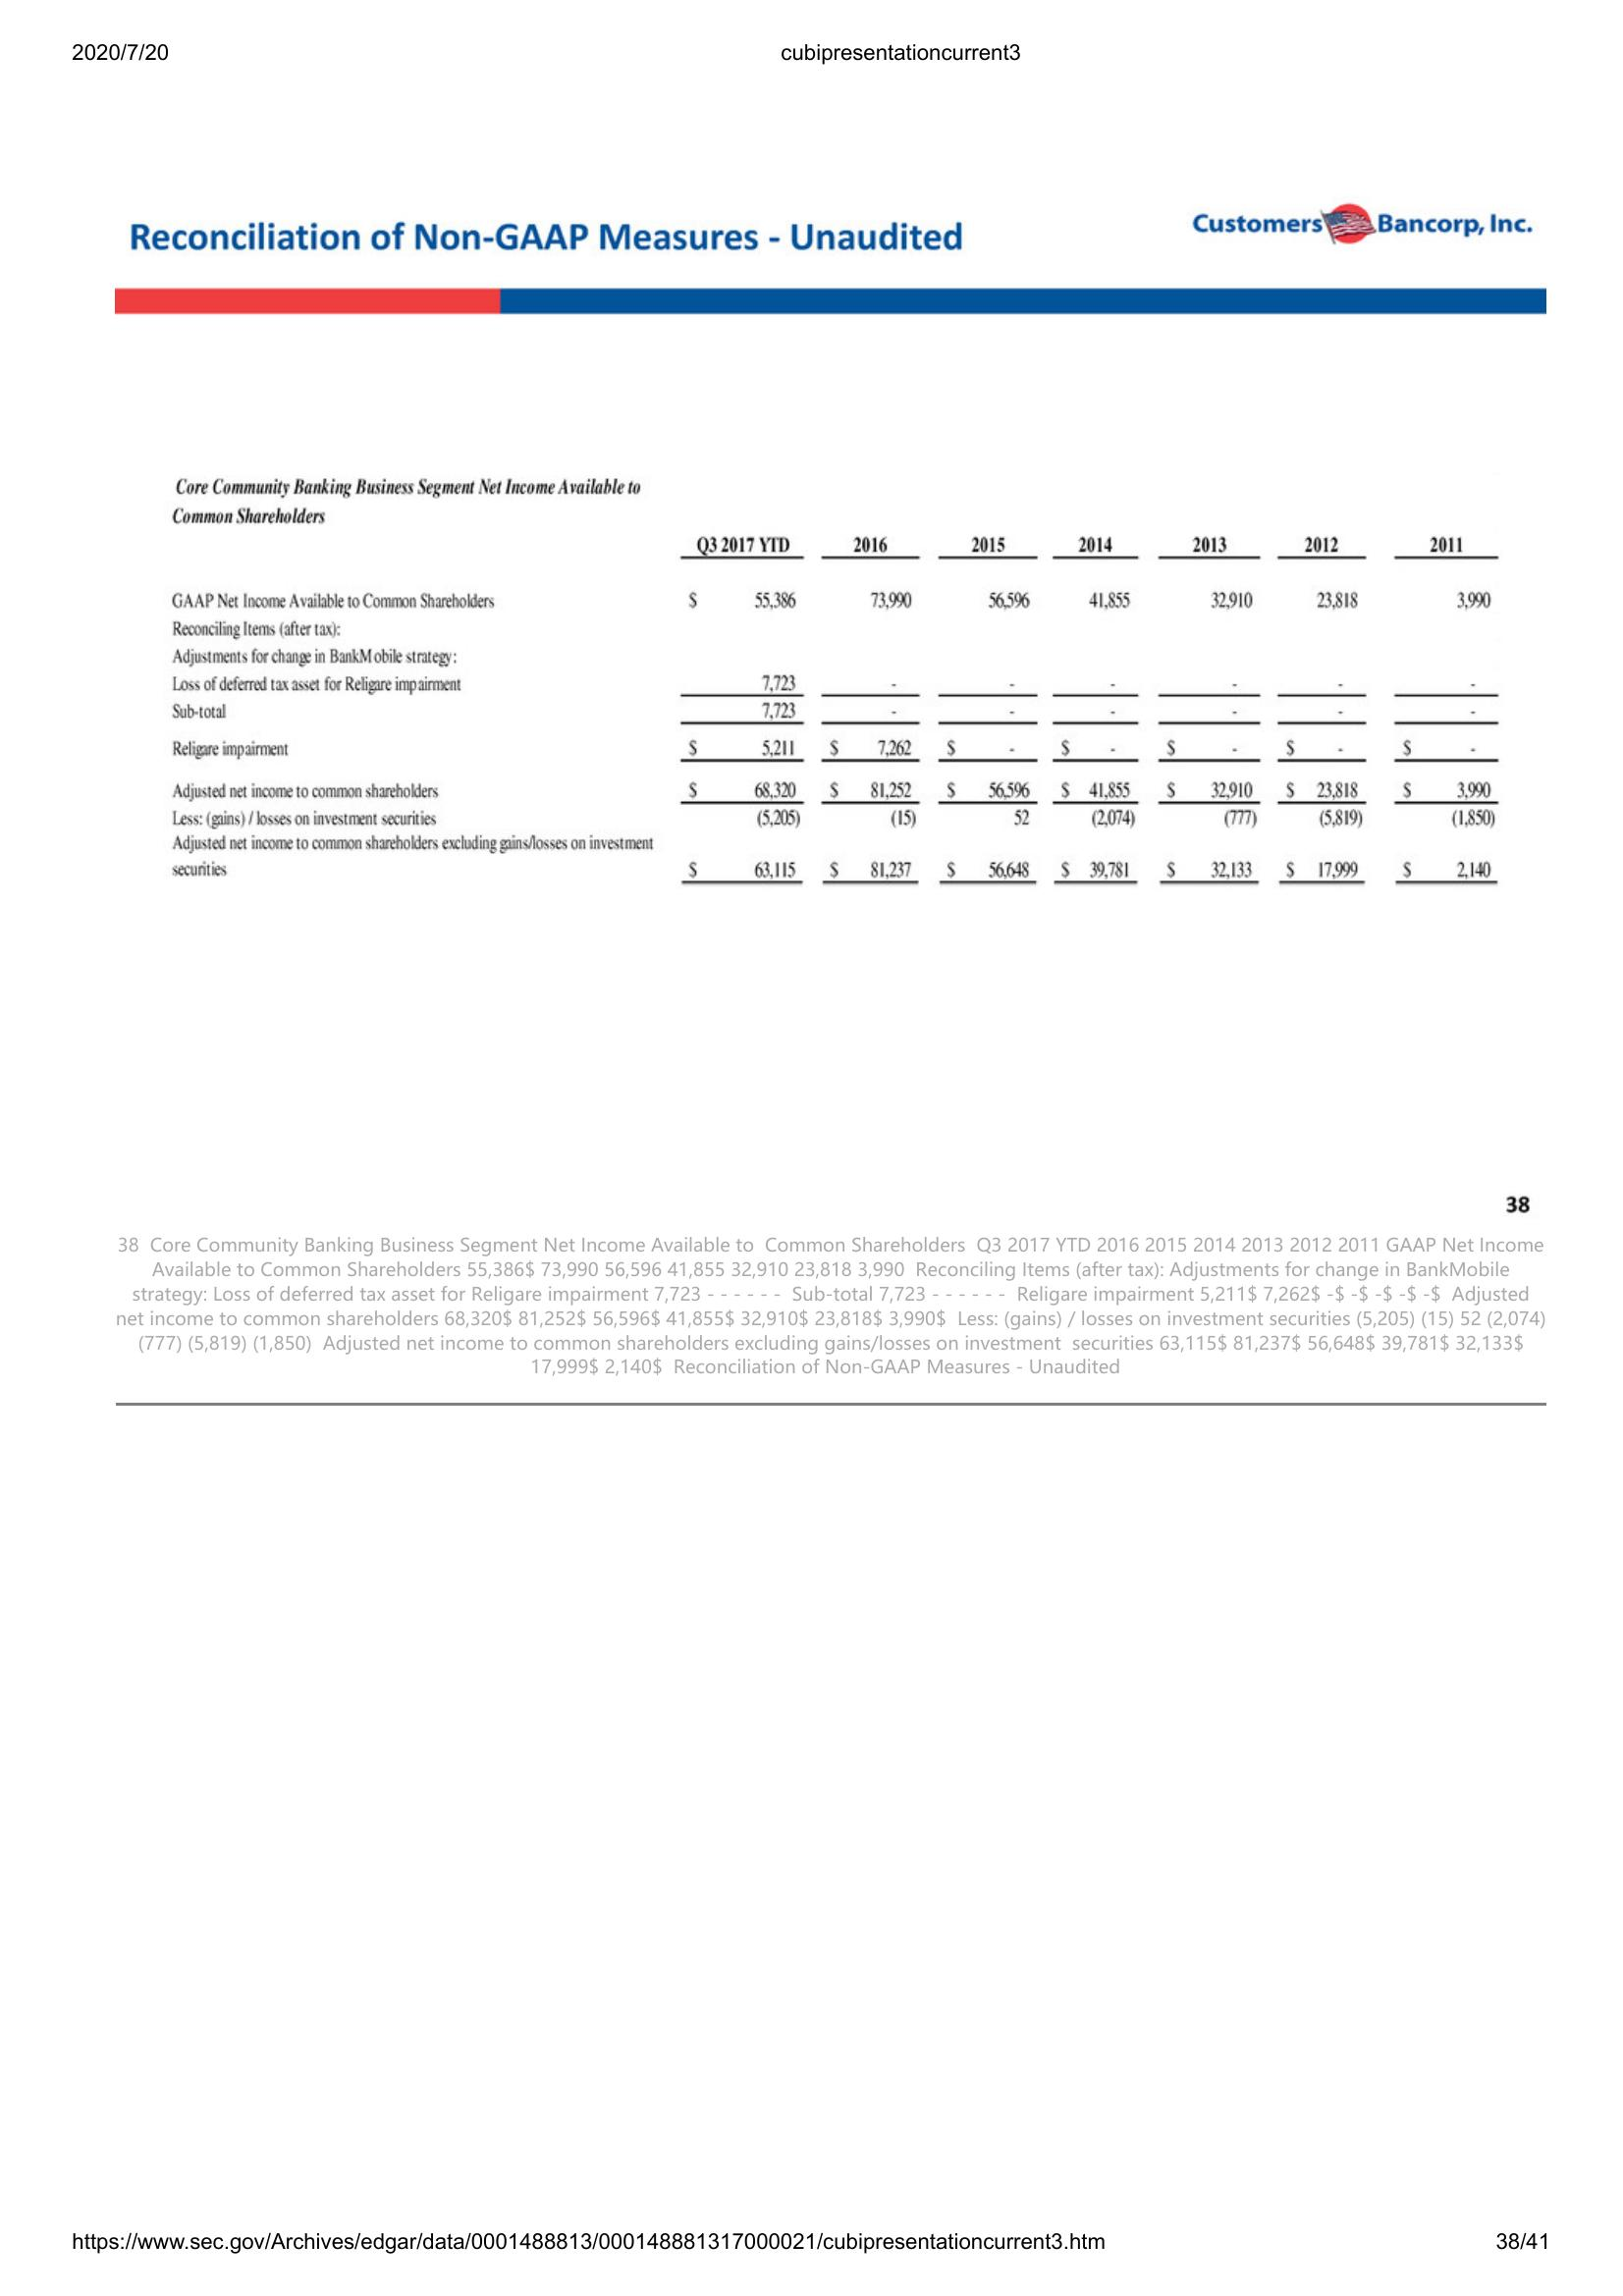table: (156, 469, 1516, 893)
